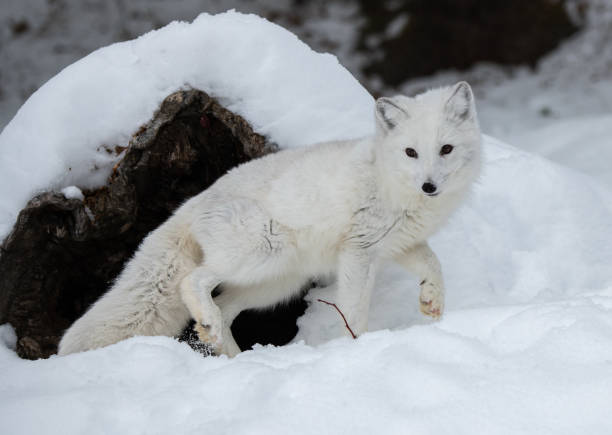arcticfox: (381, 110, 473, 215)
